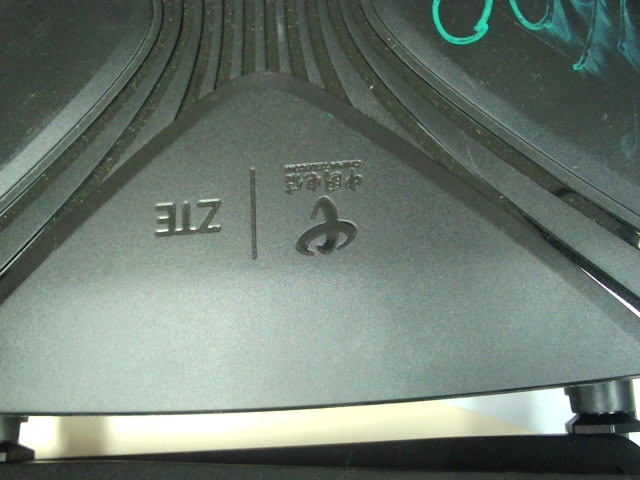AX_ZTEChinaTelecom: (152, 155, 379, 258)
